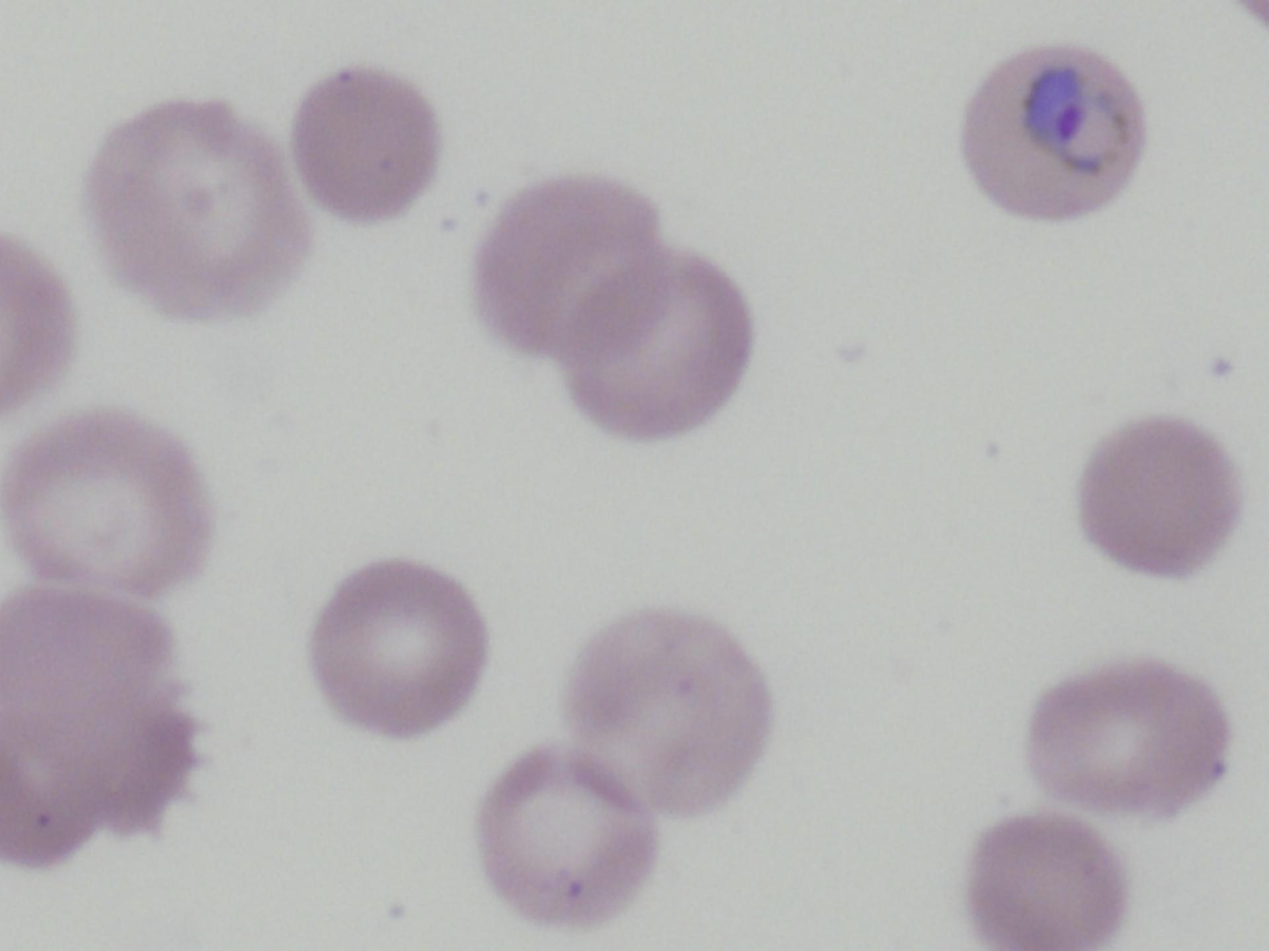Infected: (961, 40, 1150, 227)
Uninfected: (0, 589, 184, 872), (84, 100, 304, 317), (564, 613, 771, 816), (20, 410, 213, 605), (478, 173, 668, 356), (568, 256, 753, 437), (476, 741, 651, 927), (311, 558, 483, 740), (1027, 666, 1226, 821), (1080, 415, 1238, 578), (291, 71, 439, 226), (972, 811, 1125, 951)
